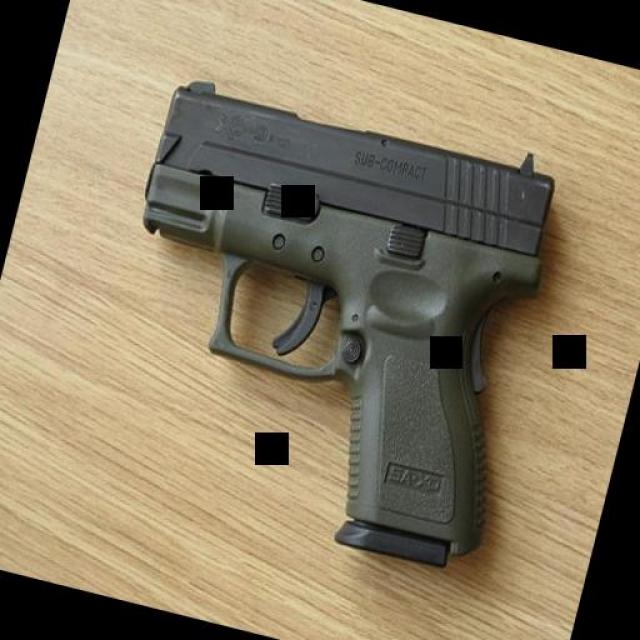gun: (70, 64, 578, 581)
